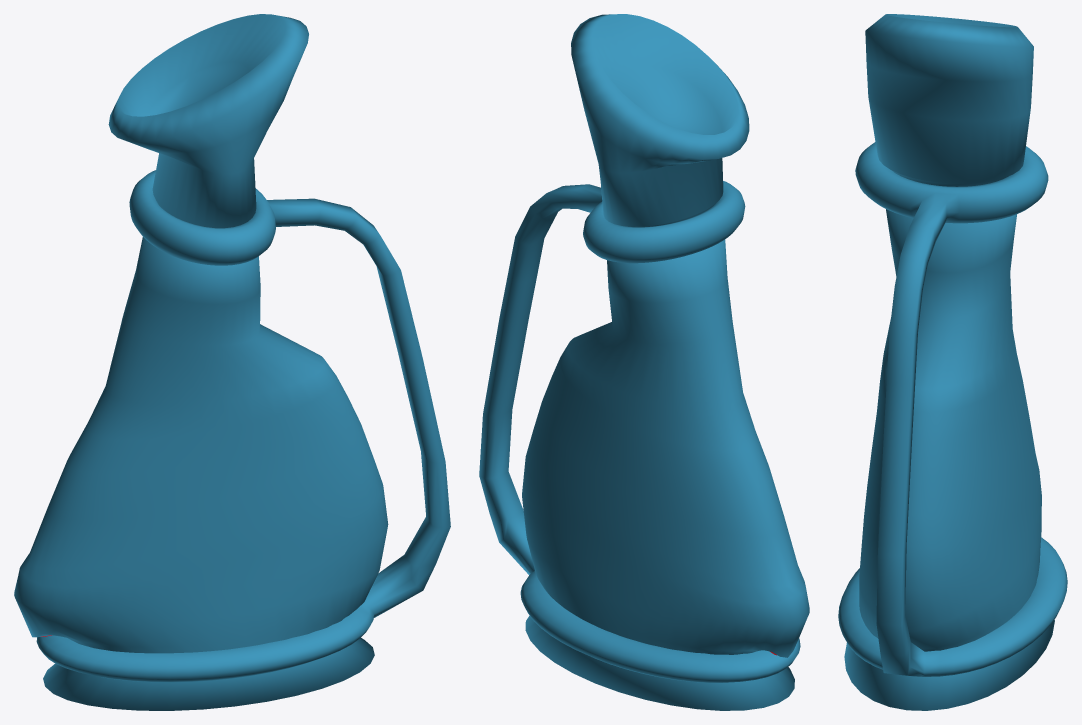
Rendered from bottole.fbx.
The picture shows the model from 3 angles, left to right: view 1: azimuth 30°, elevation 25°; view 2: azimuth 150°, elevation 25°; view 3: azimuth 270°, elevation 25°; orthographic projection. The views are drawn at different scales.
Visible parts, largest first — view 1: Galss; view 2: Galss; view 3: Galss.
Part boxes in pixels (x1,y1,x2,y2): Galss: (14,14,450,710); Galss: (479,14,809,710); Galss: (838,14,1067,710).
Size of the model in its own units: 115 by 183 by 58.52.
